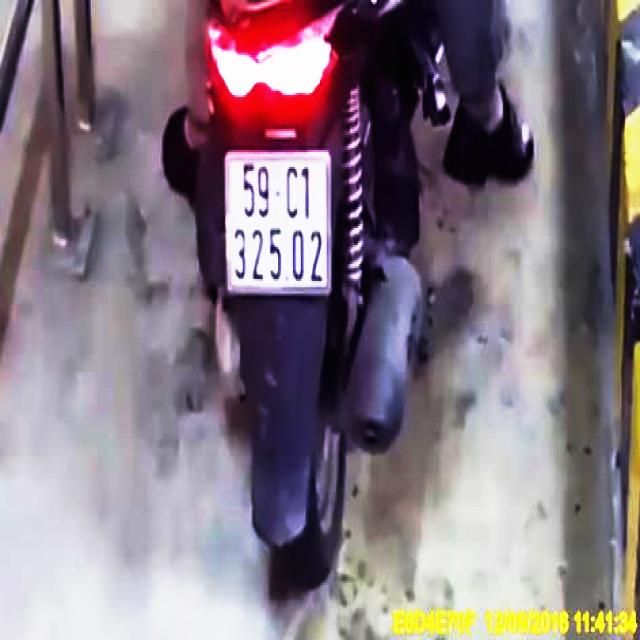license_plate: (226, 157, 329, 292)
